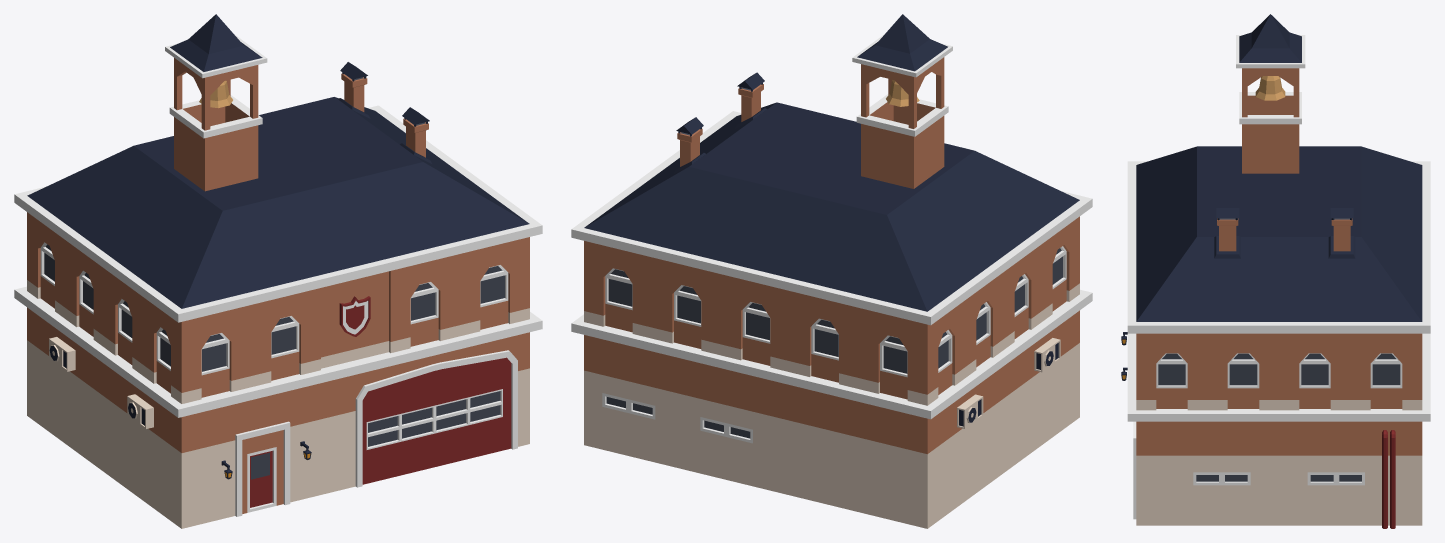
Rendered from building-firestation.fbx.
The picture shows the model from 3 angles, left to right: view 1: azimuth 30°, elevation 25°; view 2: azimuth 150°, elevation 25°; view 3: azimuth 270°, elevation 25°; orthographic projection. The views are drawn at different scales.
Visible parts, largest first — view 1: building-firestation; view 2: building-firestation; view 3: building-firestation.
Boxes of the visible parts, x1,y1,x2,y2 form: building-firestation: (14,14,542,528); building-firestation: (571,14,1092,528); building-firestation: (1121,14,1430,528).
Bounding box in the file's own units: 13.65 × 15.54 × 10.82.
